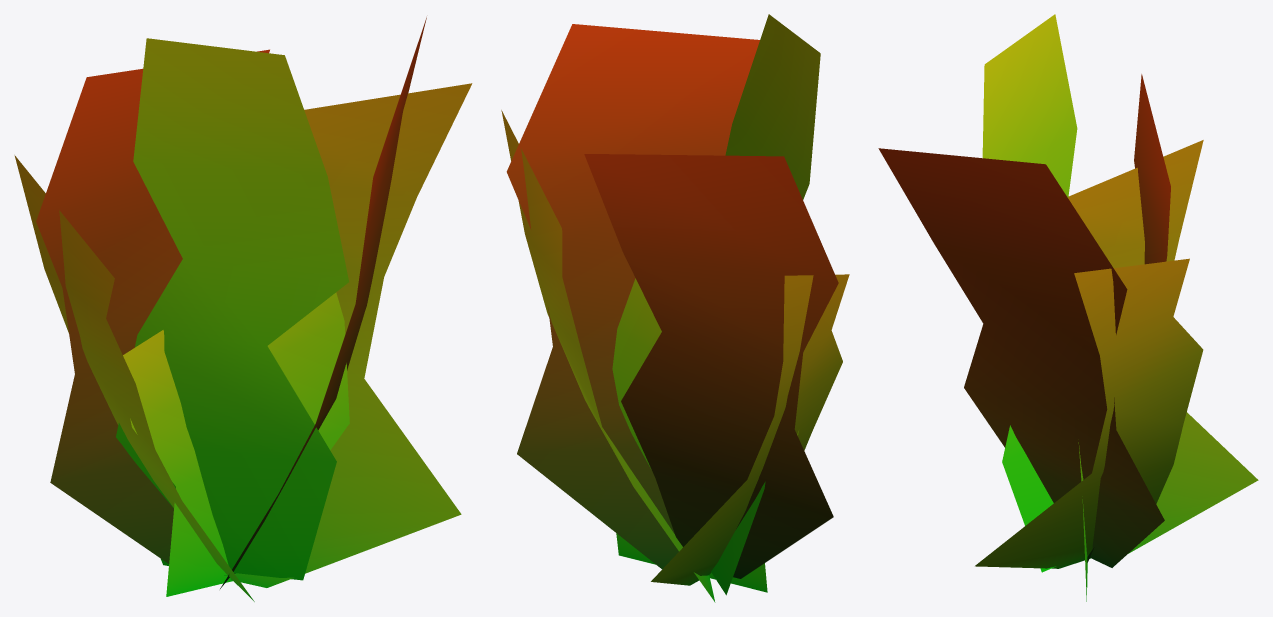
File: Var8Hi8.fbx
3 renders of one model, left to right at view 1: azimuth 30°, elevation 25°; view 2: azimuth 150°, elevation 25°; view 3: azimuth 270°, elevation 25°, orthographic. The views are drawn at different scales.
Visible parts, largest first — view 1: bend1; view 2: bend1; view 3: bend1.
Part boxes in pixels (x1,y1,x2,y2): bend1: (14, 17, 472, 601); bend1: (501, 14, 849, 602); bend1: (878, 14, 1258, 601).
Size of the model in its own units: 1.27 by 1.76 by 1.2.
